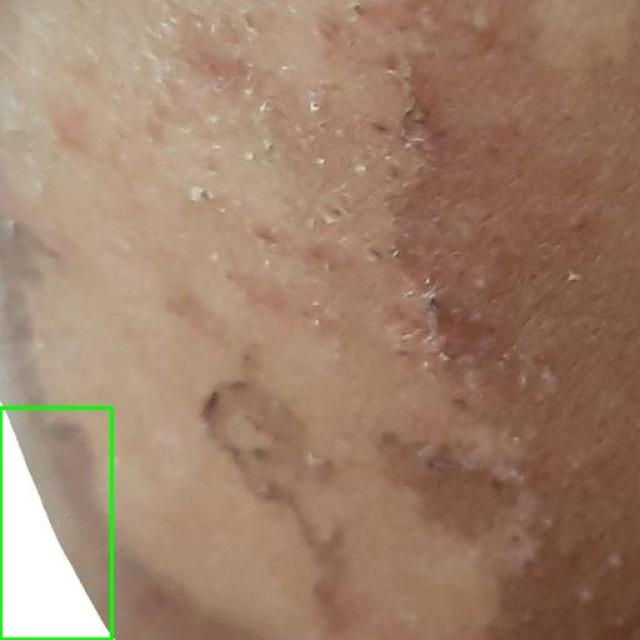Contact Dermatitis: (0, 408, 111, 639)
